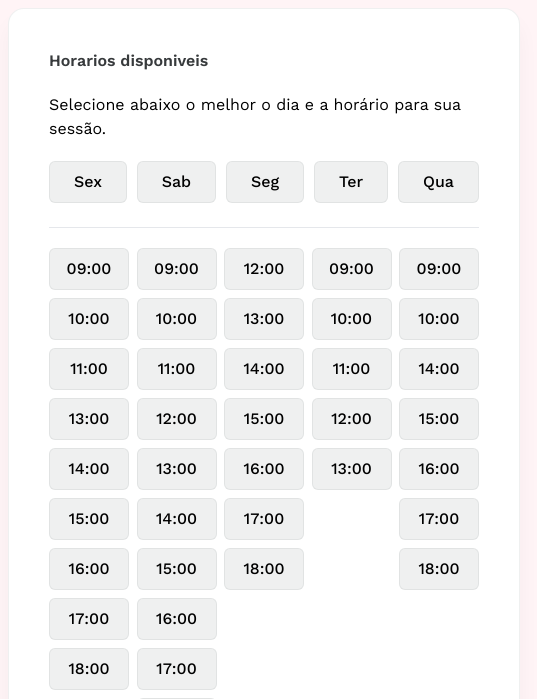
Test case: <PsychologistCard /> › should appear text to preview schedule
Click the button with test id "button-0-2".
click(89, 369)  # box [49,348,129,390]
(page scrolled)
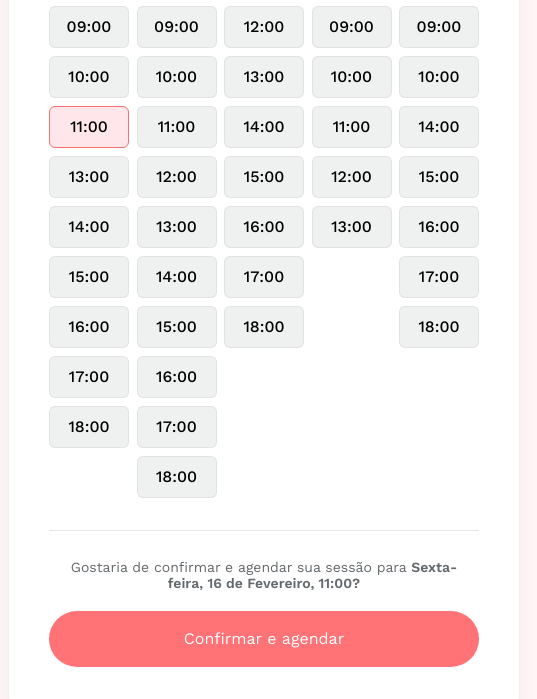
Check: the element with test id "confirm-text" is shown, box [71,559,457,591]
